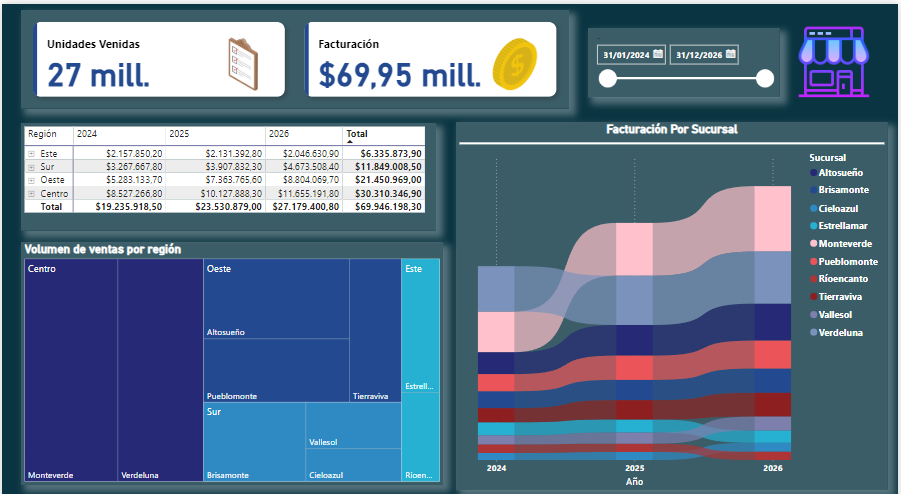

What the dashboard file says about the page in this screenshot:
{"tool":"powerbi","page":{"name":"Página 1","canvas":[1280,720],"ordinal":0},"visuals":[{"type":"ribbonChart","title":"Facturación Por Sucursal","fields":{"Category":["Ventas_2024_2026.Cierre mes.Variación.Jerarquía de fechas.Año","Ventas_2024_2026.Cierre mes.Variación.Jerarquía de fechas.Trimestre","Ventas_2024_2026.Cierre mes.Variación.Jerarquía de fechas.Mes","Ventas_2024_2026.Cierre mes.Variación.Jerarquía de fechas.Día"],"Y":["Sum(Ventas_2024_2026.Total_Venta)"],"Series":["Ventas_2024_2026.Sucursal"]},"box":[648,169.2,617,525.9],"z":0},{"type":"pivotTable","fields":{"Values":["Sum(Ventas_2024_2026.Total_Venta)"],"Rows":["Sucursales.Región","Sucursales.Sucursal"],"Columns":["Ventas_2024_2026.Cierre mes.Variación.Jerarquía de fechas.Año","Ventas_2024_2026.Cierre mes.Variación.Jerarquía de fechas.Trimestre","Ventas_2024_2026.Cierre mes.Variación.Jerarquía de fechas.Mes","Ventas_2024_2026.Cierre mes.Variación.Jerarquía de fechas.Día"]},"box":[26.8,169.6,593,153.7],"z":1000},{"type":"slicer","fields":{"Values":["Ventas_2024_2026.Cierre mes"]},"box":[836.6,34.3,274.2,98.5],"z":2000},{"type":"cardVisual","fields":{"Data":["Sum(Ventas_2024_2026.Unidades)","Sum(Ventas_2024_2026.Total_Venta)"]},"box":[26.8,8.6,783,141.4],"z":3000},{"type":"treemap","title":"Volumen de ventas por región","fields":{"Group":["Sucursales.Región"],"Details":["Sucursales.Sucursal"],"Values":["Sum(Ventas_2024_2026.Unidades)"]},"box":[26.8,339.5,603,347],"z":4000},{"type":"image","box":[1110.8,16.1,154.2,133.9],"z":4001}]}

Visuals, with their boxes in screenshot pixels (x1, y1, x2, y2), scaled from the page's 1280x720 canvas onto the 901x494 screenshot:
"Facturación Por Sucursal" ribbonChart: x1=456, y1=116, x2=890, y2=477
pivotTable - Sum(Ventas_2024_2026.Total_Venta) x Sucursales.Región: x1=19, y1=116, x2=436, y2=222
slicer - Ventas_2024_2026.Cierre mes: x1=589, y1=24, x2=782, y2=91
cardVisual - Sum(Ventas_2024_2026.Unidades) x Sum(Ventas_2024_2026.Total_Venta): x1=19, y1=6, x2=570, y2=103
"Volumen de ventas por región" treemap: x1=19, y1=233, x2=443, y2=471
image: x1=782, y1=11, x2=890, y2=103
